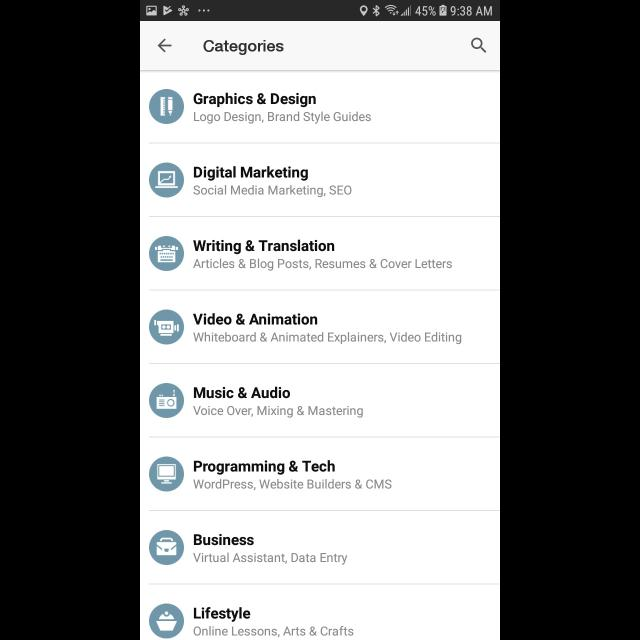icon: (150, 530, 184, 564), (471, 38, 487, 54), (158, 38, 172, 54)
image: (150, 456, 184, 492), (150, 236, 184, 272), (150, 162, 184, 198), (150, 604, 184, 638), (150, 384, 184, 418), (150, 310, 184, 344), (150, 90, 184, 124)
text: (194, 332, 462, 344), (193, 258, 452, 270), (194, 479, 392, 491), (195, 112, 372, 125), (194, 460, 336, 476), (193, 406, 363, 418), (193, 240, 334, 254), (194, 92, 316, 108), (194, 626, 354, 638), (194, 186, 352, 198), (192, 552, 348, 564), (194, 166, 308, 182), (194, 313, 318, 325), (204, 40, 284, 56), (194, 387, 290, 399), (193, 608, 250, 622), (193, 534, 254, 546)
uppertaskbar: (140, 1, 500, 22)
